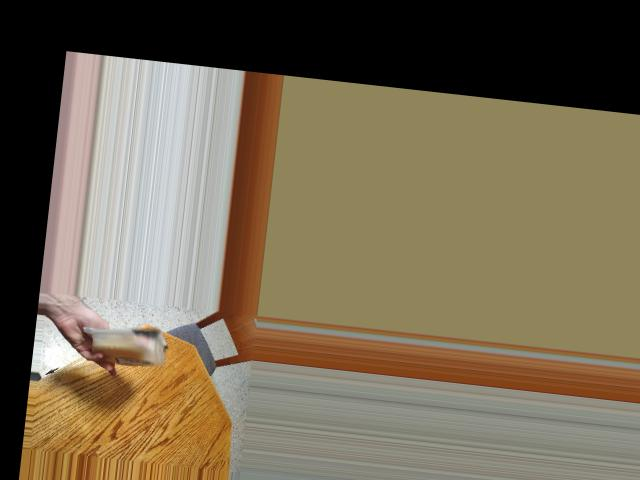cheese: (86, 315, 167, 378)
